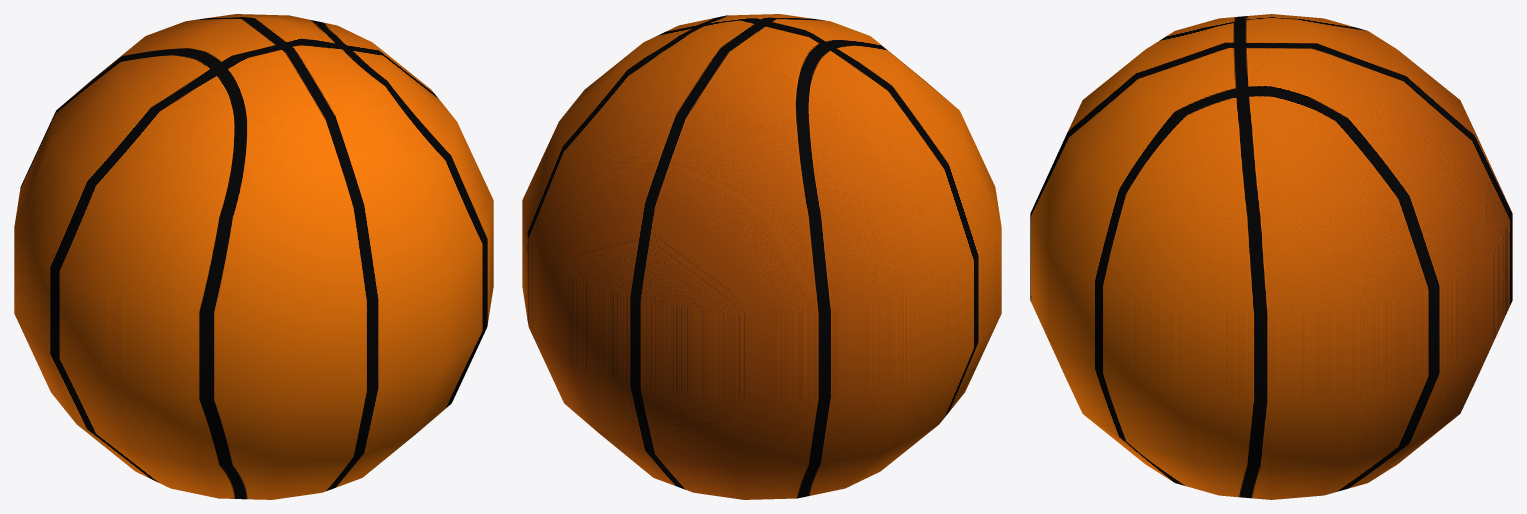
The model's file is Basketball.fbx.
3 views of the same model, side by side, from view 1: azimuth 30°, elevation 25°; view 2: azimuth 150°, elevation 25°; view 3: azimuth 270°, elevation 25° (orthographic).
Parts seen in each view (by area): view 1: Basketball; view 2: Basketball; view 3: Basketball.
Boxes of the visible parts, x1,y1,x2,y2 form: Basketball: (14, 14, 493, 499); Basketball: (522, 14, 1001, 499); Basketball: (1030, 14, 1512, 499).
Size of the model in its own units: 196 by 196 by 196.
Materials: 1 (1 with a texture image).
